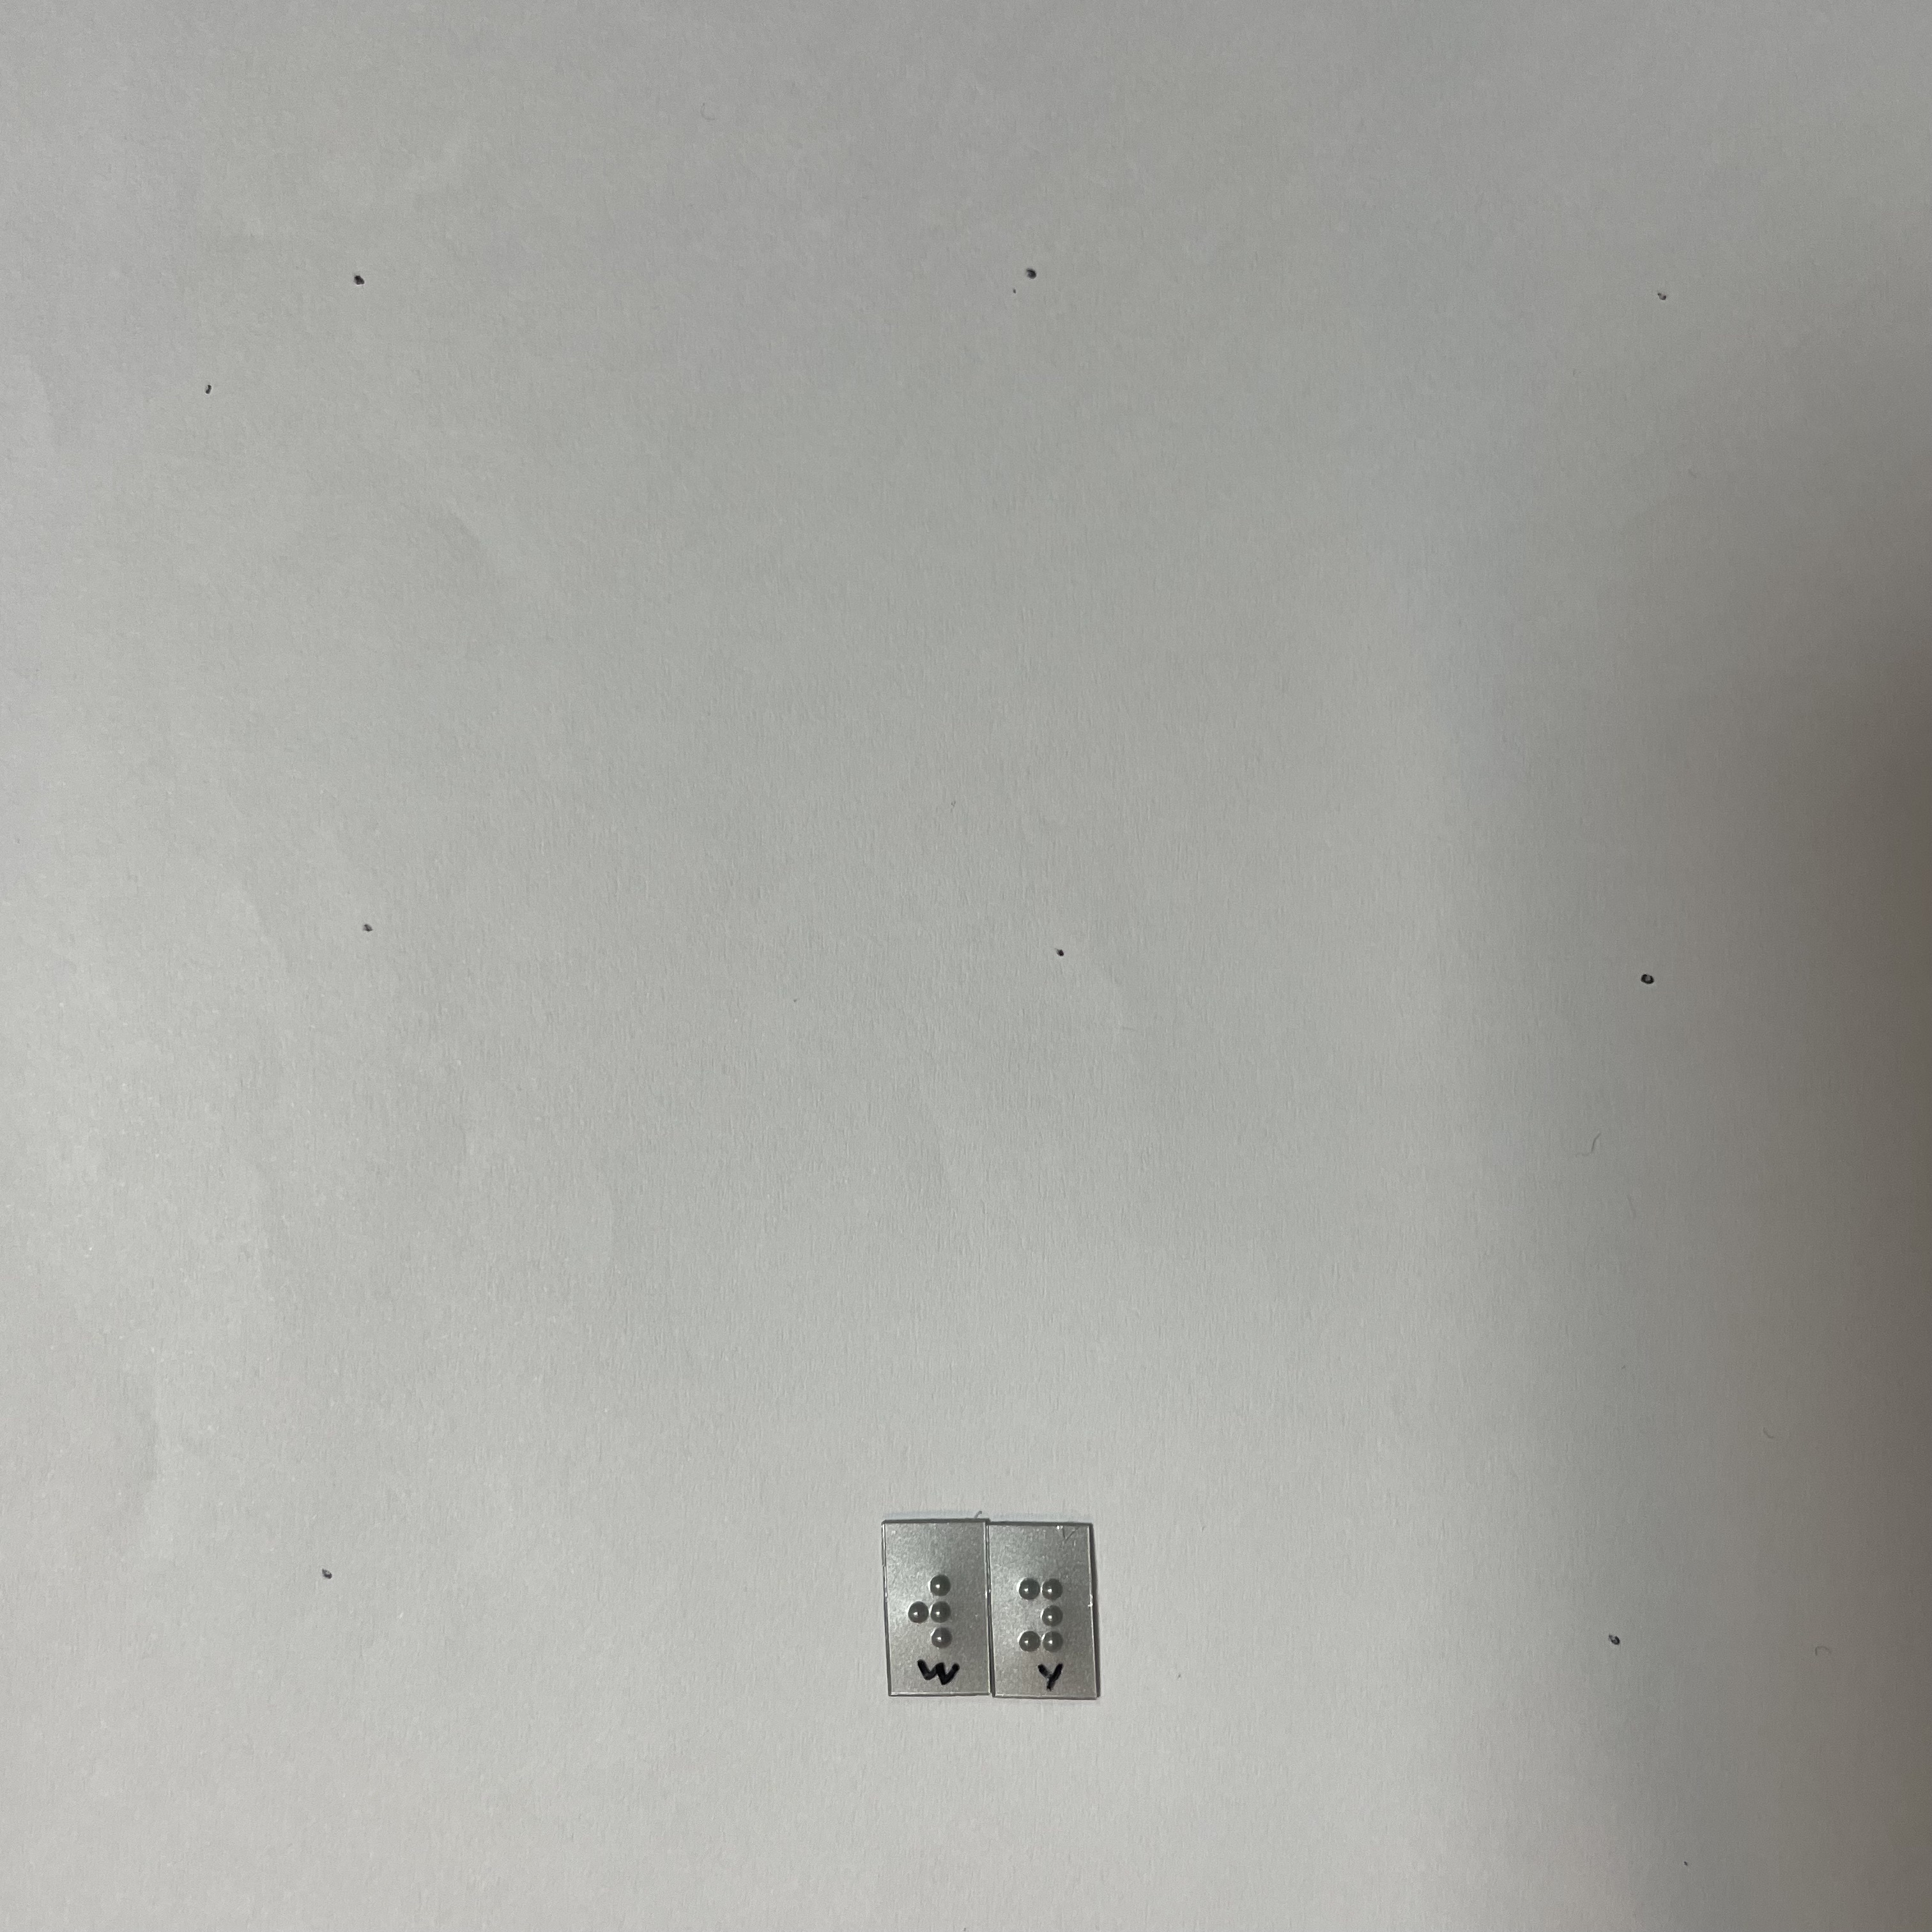w: (903, 1564, 965, 1654)
y: (1014, 1570, 1078, 1657)
